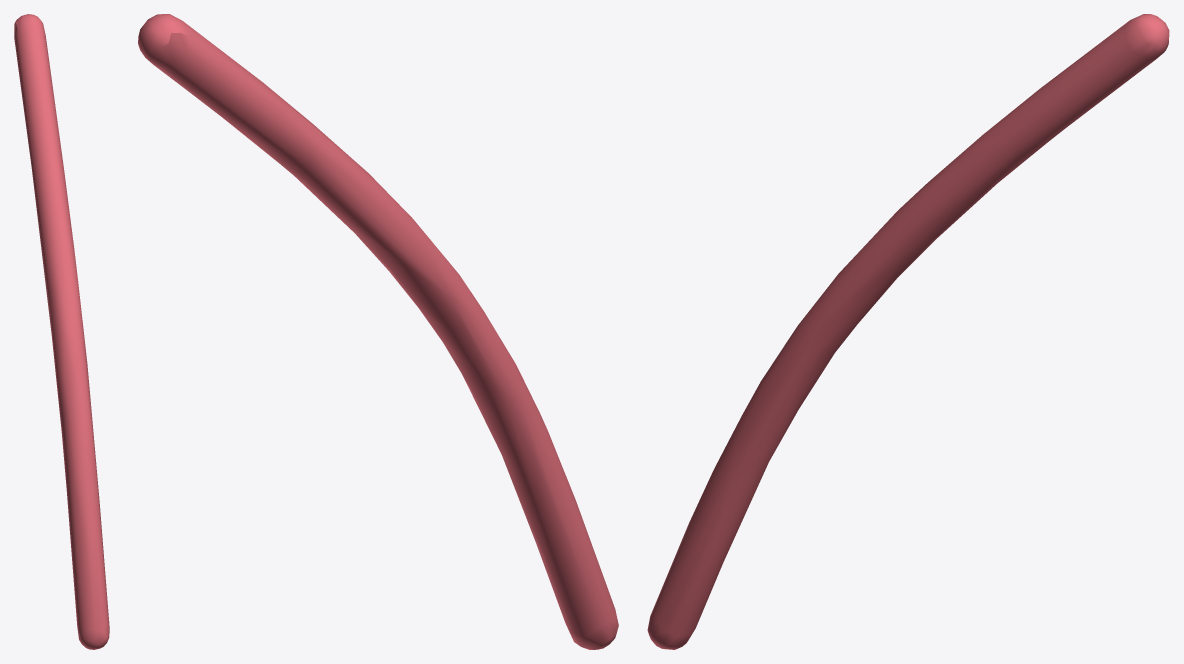
File: fma85122_fj2317.glb
3 renders of one model, left to right at view 1: azimuth 30°, elevation 25°; view 2: azimuth 150°, elevation 25°; view 3: azimuth 270°, elevation 25°, orthographic. The views are drawn at different scales.
Visible parts, largest first — view 1: FMA85122_FJ2317; view 2: FMA85122_FJ2317; view 3: FMA85122_FJ2317.
Boxes of the visible parts, x1,y1,x2,y2 form: FMA85122_FJ2317: (14,14,109,649); FMA85122_FJ2317: (138,14,618,649); FMA85122_FJ2317: (647,14,1169,649).
Bounding box in the file's own units: 0.00665 × 0.0243 × 0.0163.
